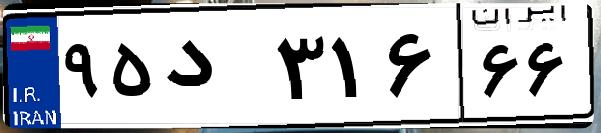1: (330, 28, 385, 110)
3: (270, 28, 330, 110)
5: (110, 28, 158, 98)
6: (385, 28, 445, 110), (475, 38, 525, 113), (525, 38, 570, 115)
9: (57, 26, 110, 100)
د: (158, 20, 270, 120)
